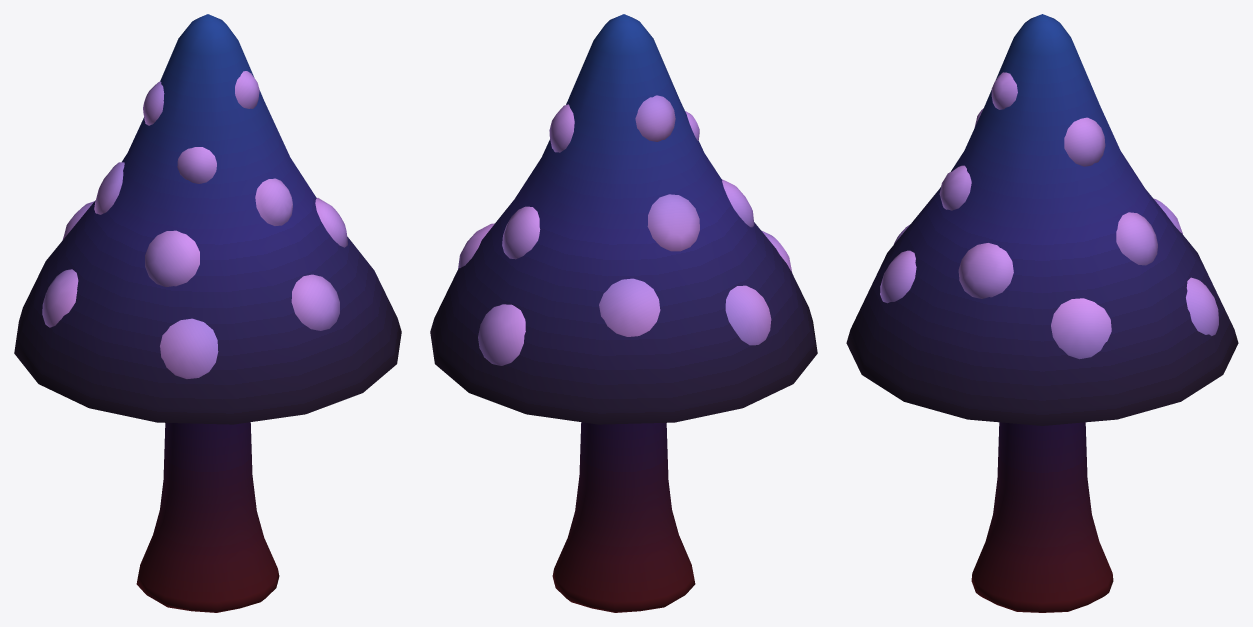
File: Midnight_Mushroom_Source_Adjusted.fbx
The picture shows the model from 3 angles, left to right: view 1: azimuth 30°, elevation 25°; view 2: azimuth 150°, elevation 25°; view 3: azimuth 270°, elevation 25°; orthographic projection.
Visible parts, largest first — view 1: Midnight_Mushroom_Source_Adjusted; view 2: Midnight_Mushroom_Source_Adjusted; view 3: Midnight_Mushroom_Source_Adjusted.
Boxes of the visible parts, x1,y1,x2,y2 form: Midnight_Mushroom_Source_Adjusted: (14,14,401,612); Midnight_Mushroom_Source_Adjusted: (430,14,817,612); Midnight_Mushroom_Source_Adjusted: (846,14,1238,612).
Size of the model in its own units: 31.06 by 50.26 by 31.06.
